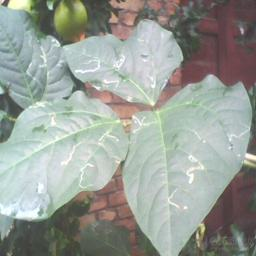liriomyza: (57, 139, 80, 167), (185, 154, 204, 185), (221, 124, 250, 142), (77, 163, 95, 189), (73, 58, 101, 74), (131, 113, 149, 133), (98, 129, 120, 145), (37, 45, 50, 69), (167, 188, 181, 208), (113, 53, 126, 71), (101, 78, 120, 89), (46, 110, 57, 127), (125, 93, 133, 102)
